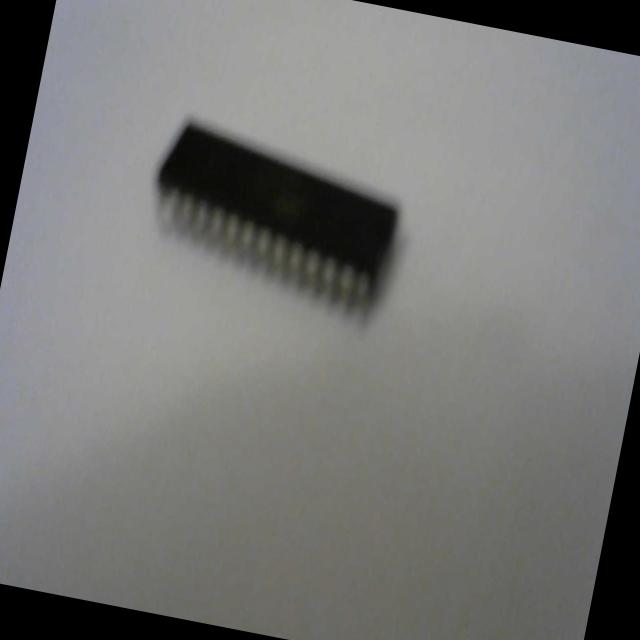atmega: (133, 108, 415, 332)
